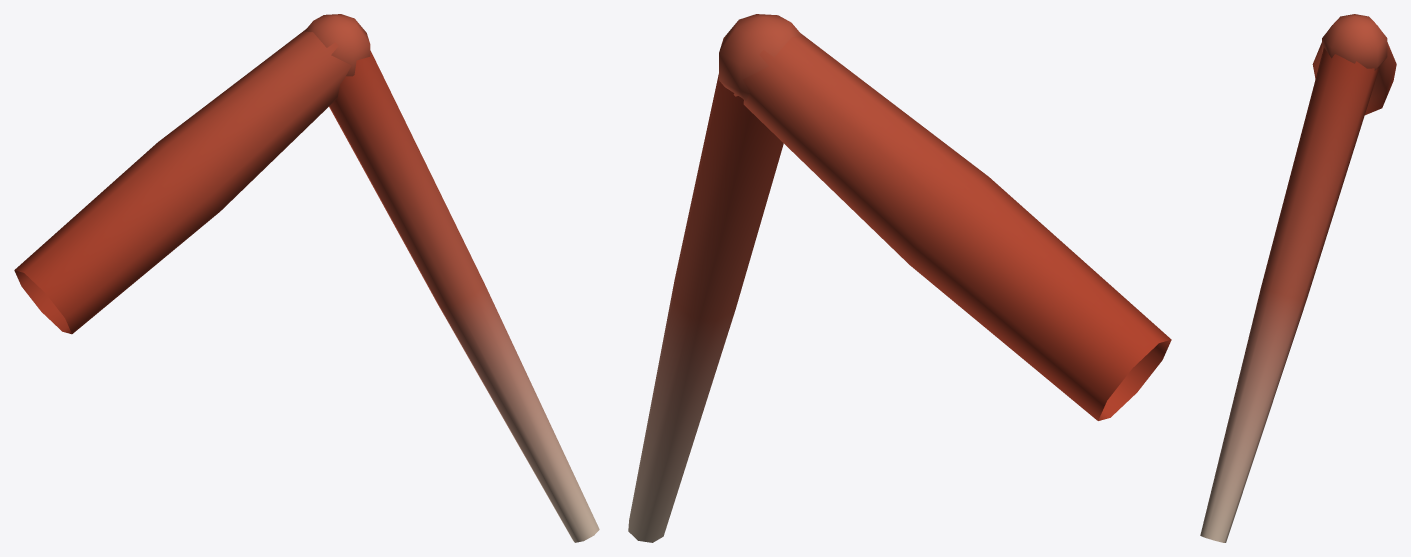
Rendered from Yadokari_Leg2.fbx.
The picture shows the model from 3 angles, left to right: view 1: azimuth 30°, elevation 25°; view 2: azimuth 150°, elevation 25°; view 3: azimuth 270°, elevation 25°; orthographic projection. The views are drawn at different scales.
Parts seen in each view (by area): view 1: Yadokari_Leg2; view 2: Yadokari_Leg2; view 3: Yadokari_Leg2.
Part boxes in pixels (x1,y1,x2,y2): Yadokari_Leg2: (14,14,599,542); Yadokari_Leg2: (628,14,1171,542); Yadokari_Leg2: (1200,14,1396,542).
Size of the model in its own units: 0.2884 by 0.2828 by 0.1111.
